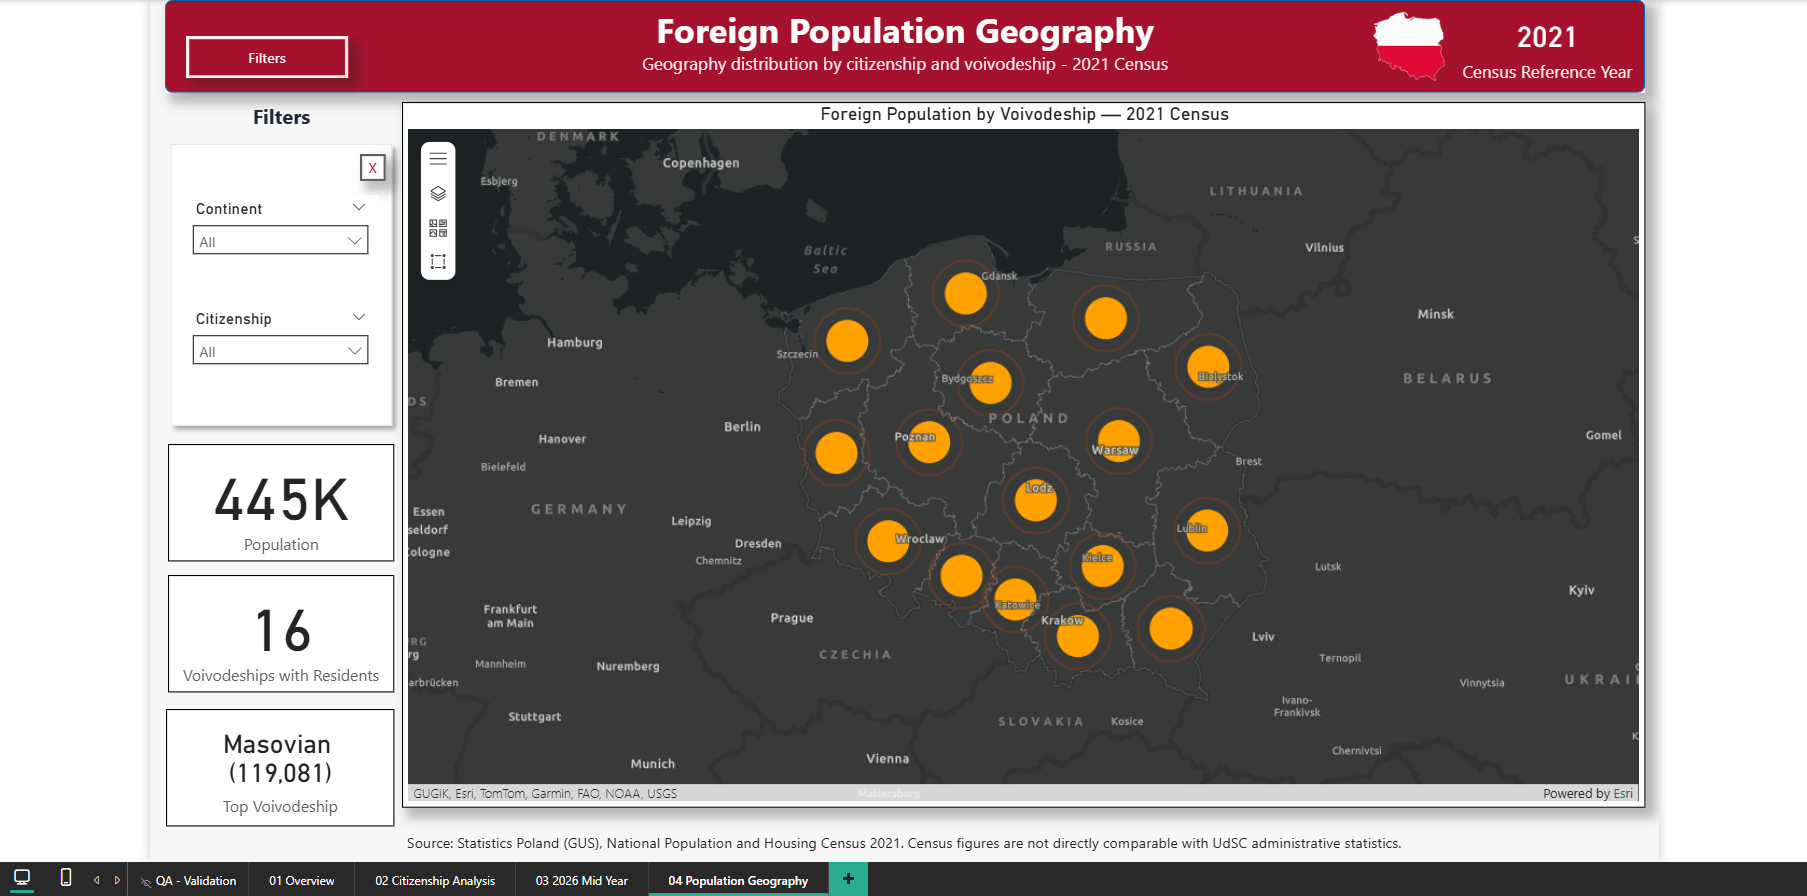

The dashboard page shown, as its layout file describes it:
{"tool":"powerbi","page":{"name":"04 Population Geography","canvas":[1400,800],"ordinal":4},"visuals":[{"type":"shape","box":[14.3,0,1373.7,86],"z":0},{"type":"shape","title":"Filters","box":[9.9,95,223.5,309.5],"z":0,"group":"g1"},{"type":"textbox","box":[14.3,0,1373.7,86],"z":1000},{"type":"actionButton","box":[194.9,143,23.9,25.1],"z":1000,"group":"g1"},{"type":"card","fields":{"Values":["_Measures.Latest Population Year"]},"box":[1206.7,1.2,180.9,84.2],"z":2000},{"type":"slicer","title":"Country","fields":{"Values":["dim_country_conformed.continent"]},"box":[29,181,183.2,84.9],"z":2000,"group":"g1"},{"type":"slicer","title":"Country","fields":{"Values":["dim_country_conformed.country_name_standard_en"]},"box":[29,283.8,183.2,86],"z":3000,"group":"g1"},{"type":"textbox","box":[0,768.1,1400,32.3],"z":3000},{"type":"actionButton","box":[33.4,33.4,150.5,39.4],"z":4000},{"type":"group","id":"g1","title":"Citizenship Filter Panel","box":[9.9,95,223.5,309.5],"z":5000},{"type":"image","box":[1096.5,1.2,143.7,85.5],"z":6000},{"type":"esriVisual","title":"Foreign Population by Voivodeship — 2021 Census","fields":{"Location":["dim_geography.territory_name_original"],"Size":["_Measures.Population 2021 Regions"],"Color":["Sum(fact_citizenship_population.population)"]},"box":[233.5,95,1154.2,654.7],"z":7000},{"type":"card","fields":{"Values":["_Measures.Population 2021 Regions"]},"box":[16.8,412.3,210.1,109.5],"z":8000},{"type":"card","fields":{"Values":["_Measures.Voivodeships with Residents"]},"box":[16.8,534.1,210.1,109.5],"z":9000},{"type":"card","fields":{"Values":["_Measures.Top Voivodeship"]},"box":[14.5,658.1,212.3,109.5],"z":10000}]}

Visuals, with their boxes in screenshot pixels (x1, y1, x2, y2):
shape: bbox=(170, 33, 1631, 124)
"Filters" shape: bbox=(166, 134, 403, 463)
textbox: bbox=(170, 33, 1631, 124)
actionButton: bbox=(362, 185, 388, 212)
card - _Measures.Latest Population Year: bbox=(1438, 34, 1630, 124)
"Country" slicer: bbox=(186, 225, 381, 316)
"Country" slicer: bbox=(186, 335, 381, 426)
textbox: bbox=(155, 849, 1644, 884)
actionButton: bbox=(191, 68, 351, 110)
"Citizenship Filter Panel" group: bbox=(166, 134, 403, 463)
image: bbox=(1321, 34, 1474, 125)
"Foreign Population by Voivodeship — 2021 Census" esriVisual: bbox=(404, 134, 1631, 830)
card - _Measures.Population 2021 Regions: bbox=(173, 471, 397, 588)
card - _Measures.Voivodeships with Residents: bbox=(173, 601, 397, 717)
card - _Measures.Top Voivodeship: bbox=(171, 733, 396, 849)
